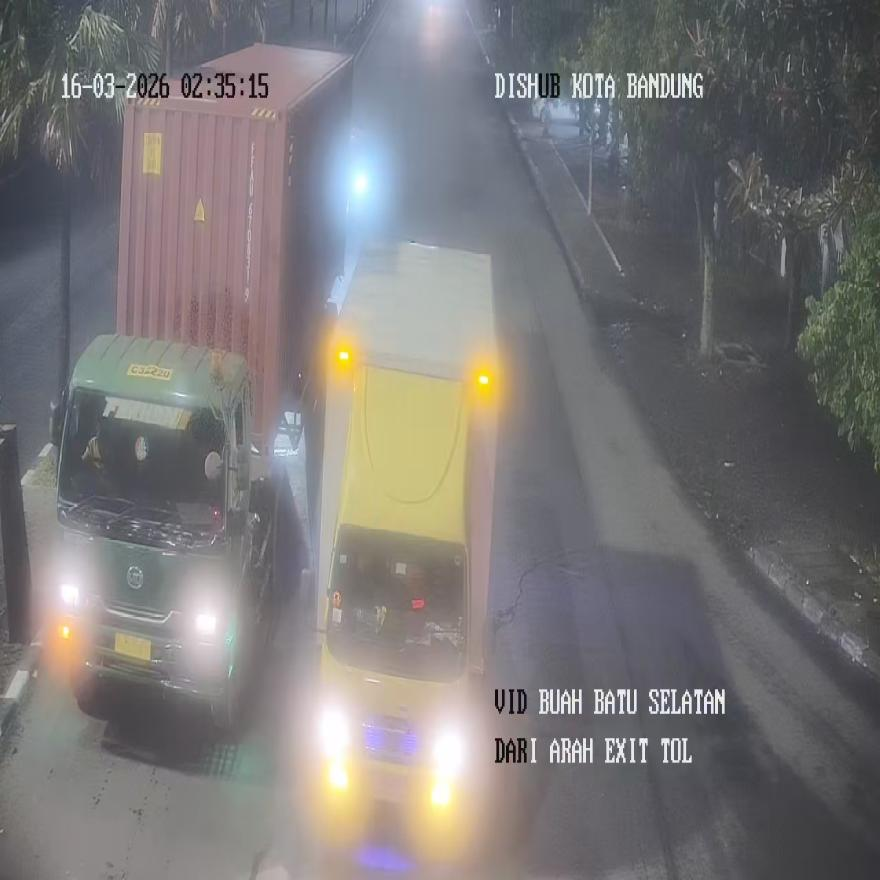Truk berat: (49, 43, 352, 737)
Truk menengah: (306, 241, 500, 860)
